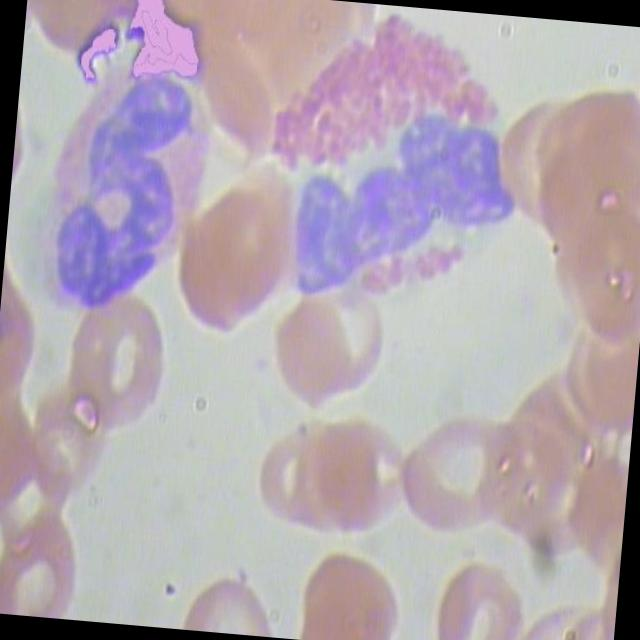RBC: (386, 402, 530, 552), (164, 187, 278, 354), (57, 296, 170, 444), (557, 202, 640, 354), (24, 389, 118, 512), (246, 428, 339, 552), (302, 286, 396, 408), (286, 424, 379, 547), (319, 420, 412, 542), (266, 300, 358, 423), (285, 548, 407, 640), (545, 449, 628, 567), (561, 316, 640, 436), (0, 508, 81, 619), (427, 562, 528, 640), (172, 572, 286, 638)
WBC: (240, 9, 535, 321), (22, 55, 225, 326)
